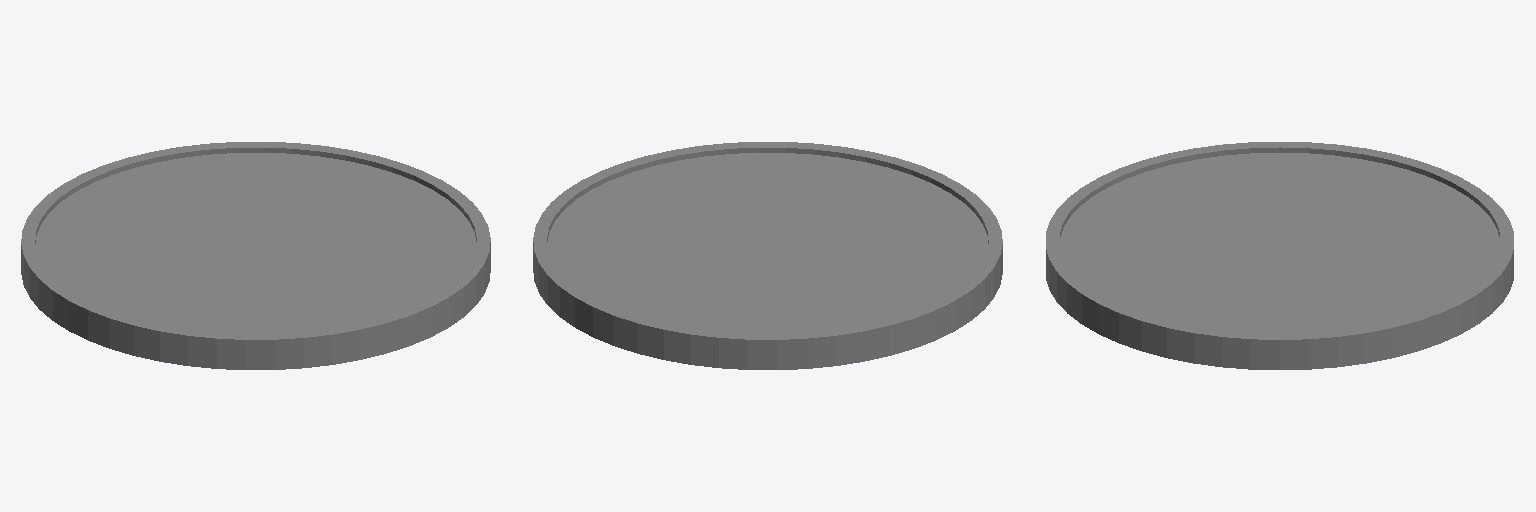
File: shop_platter.obj
3 renders of one model, left to right at view 1: azimuth 30°, elevation 25°; view 2: azimuth 150°, elevation 25°; view 3: azimuth 270°, elevation 25°, orthographic.
Visible parts, largest first — view 1: Cylinder010; view 2: Cylinder010; view 3: Cylinder010.
Part boxes in pixels (x1,y1,x2,y2): Cylinder010: (21, 142, 490, 369); Cylinder010: (533, 142, 1002, 369); Cylinder010: (1046, 142, 1513, 369).
Size of the model in its own units: 84 by 6 by 83.83.